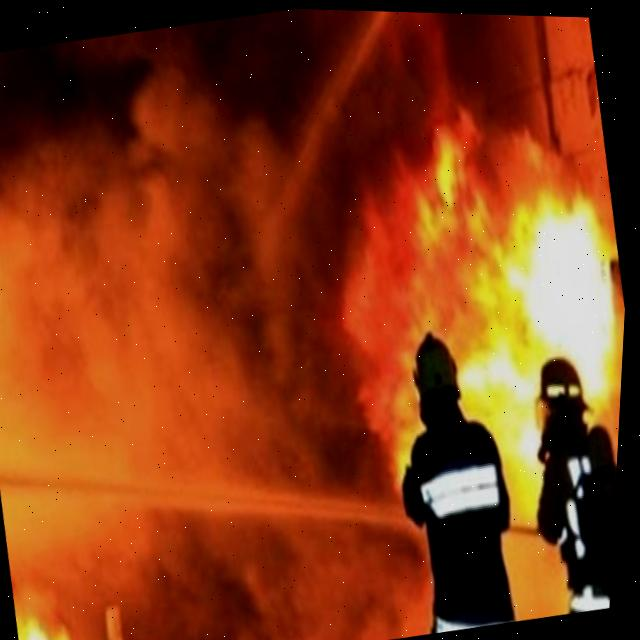fire: (349, 131, 617, 518), (21, 611, 76, 640)
smoke: (0, 7, 620, 640)
